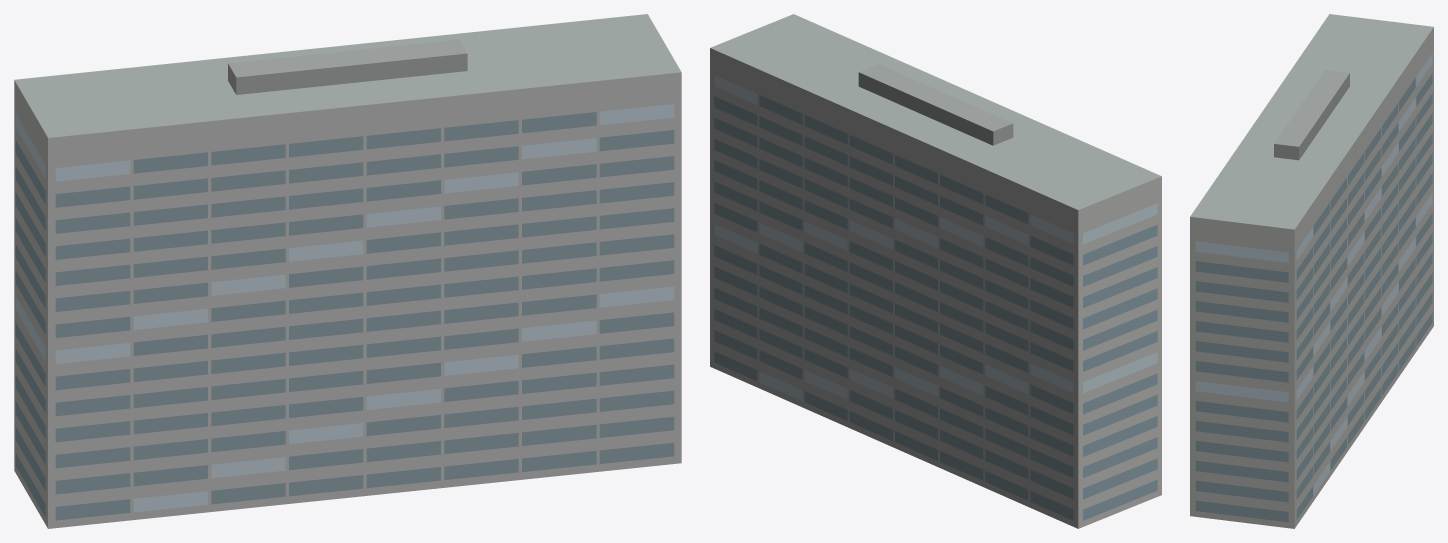
File: fallback-olympic-park-foreon-420.glb
3 renders of one model, left to right at view 1: azimuth 30°, elevation 25°; view 2: azimuth 150°, elevation 25°; view 3: azimuth 270°, elevation 25°, orthographic. The views are drawn at different scales.
Visible parts, largest first — view 1: fallback-olympic-park-foreon-420; view 2: fallback-olympic-park-foreon-420; view 3: fallback-olympic-park-foreon-420.
Boxes of the visible parts, bbox=[...] form: fallback-olympic-park-foreon-420: bbox=[14, 14, 681, 528]; fallback-olympic-park-foreon-420: bbox=[710, 14, 1161, 528]; fallback-olympic-park-foreon-420: bbox=[1190, 14, 1433, 528].
Bounding box in the file's own units: 70.66 × 47.81 × 33.78.
